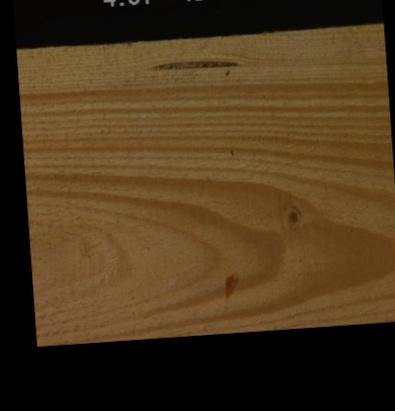sound_knot: (278, 200, 301, 231)
